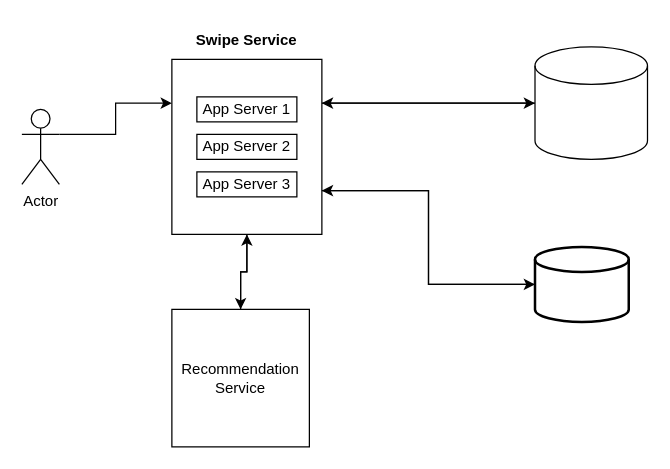
The diagram is 670 pixels wide and 469 high, and some of its shapes have lost their labels. The centre of each missing label's shape, as x and y in pixels:
"Key Value DB (Dynamo DB)" belongs at pixel 591 102.
"RDBMS" belongs at pixel 581 283.
